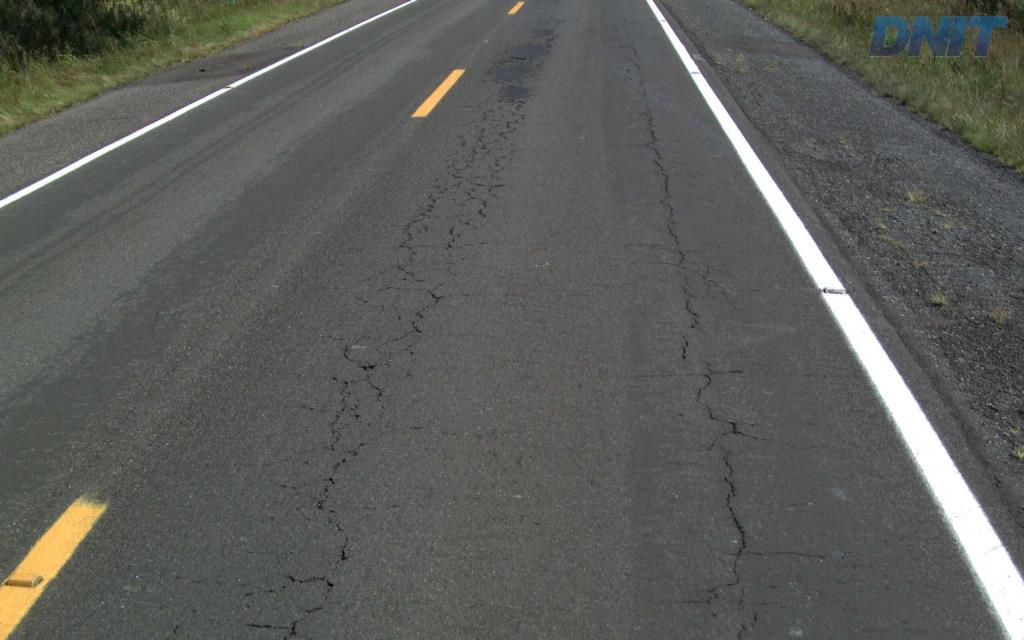crack: (719, 446, 765, 587), (323, 379, 355, 451), (245, 614, 312, 639)
